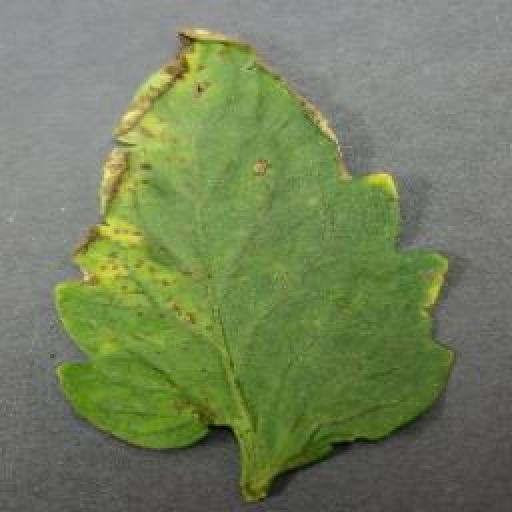Bacterial Spot: (52, 24, 461, 473)
